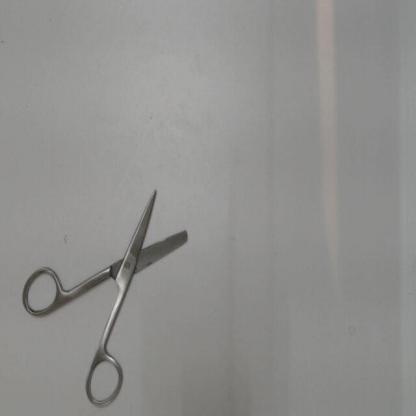Dressing Scissors: (17, 175, 200, 412)
